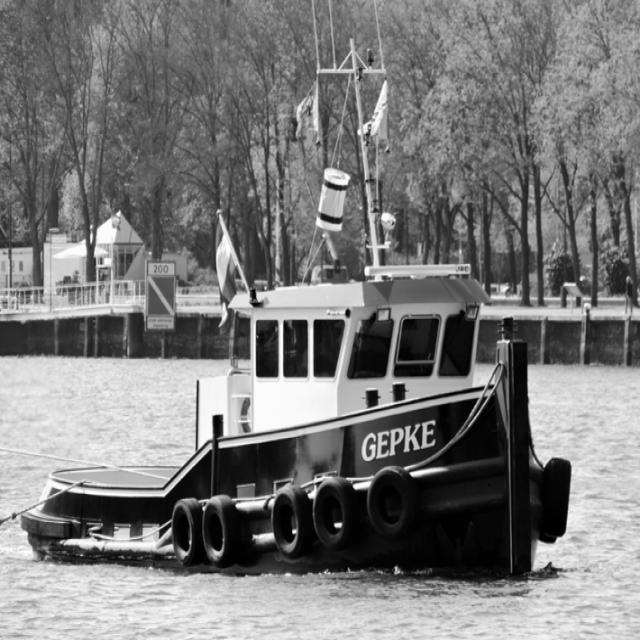tugboat: (14, 251, 576, 598)
